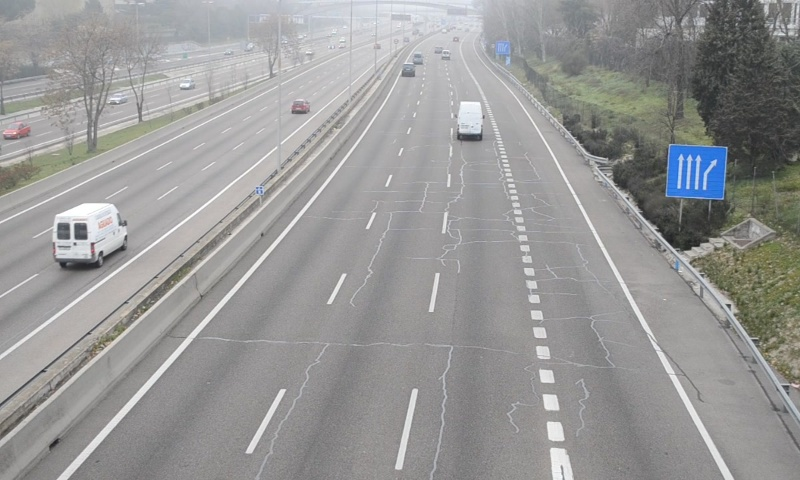van: (455, 100, 484, 139)
